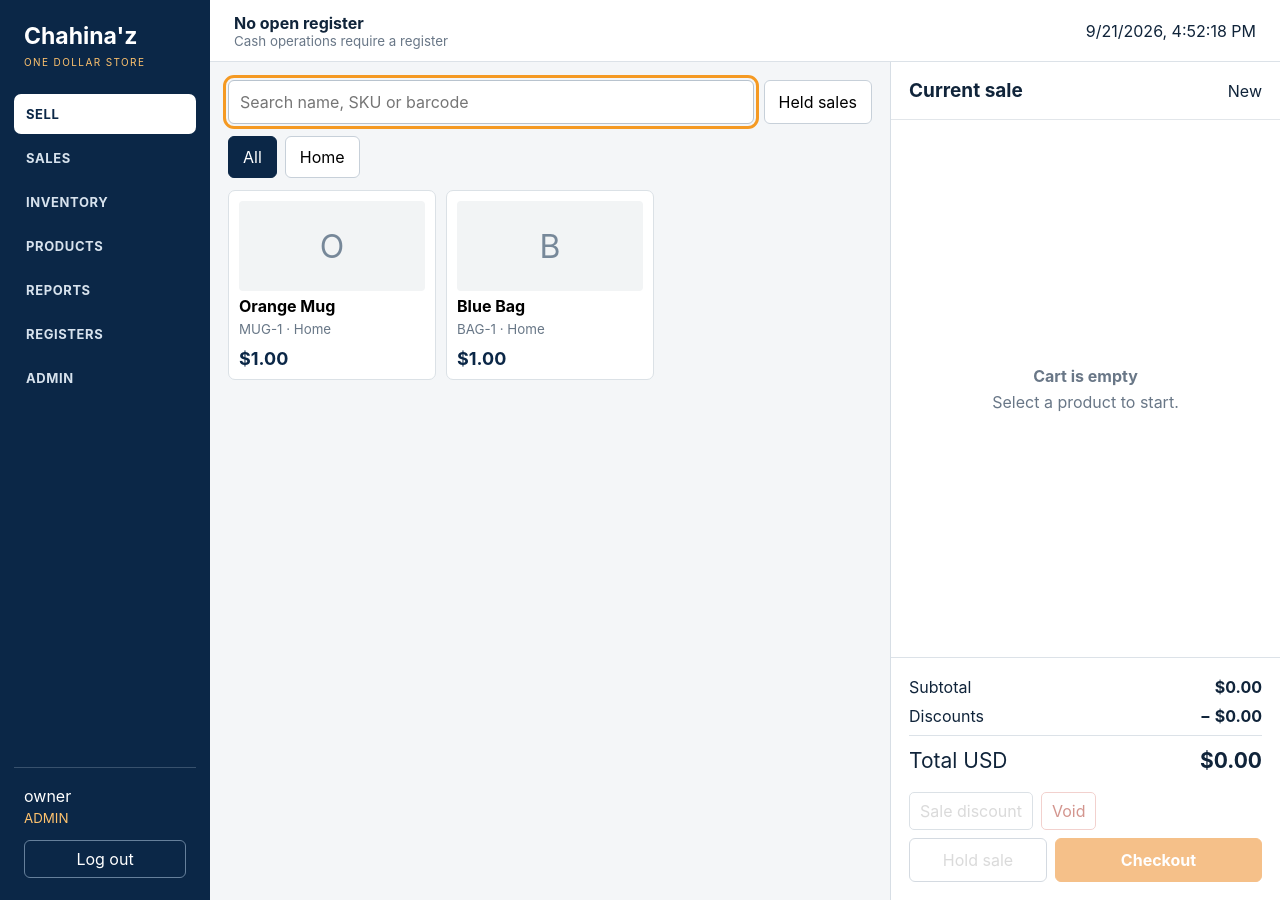
POS shell › filters products from cashier search
Type "mug" into the field named "Search products" at (491, 102), box [228,80,754,124]
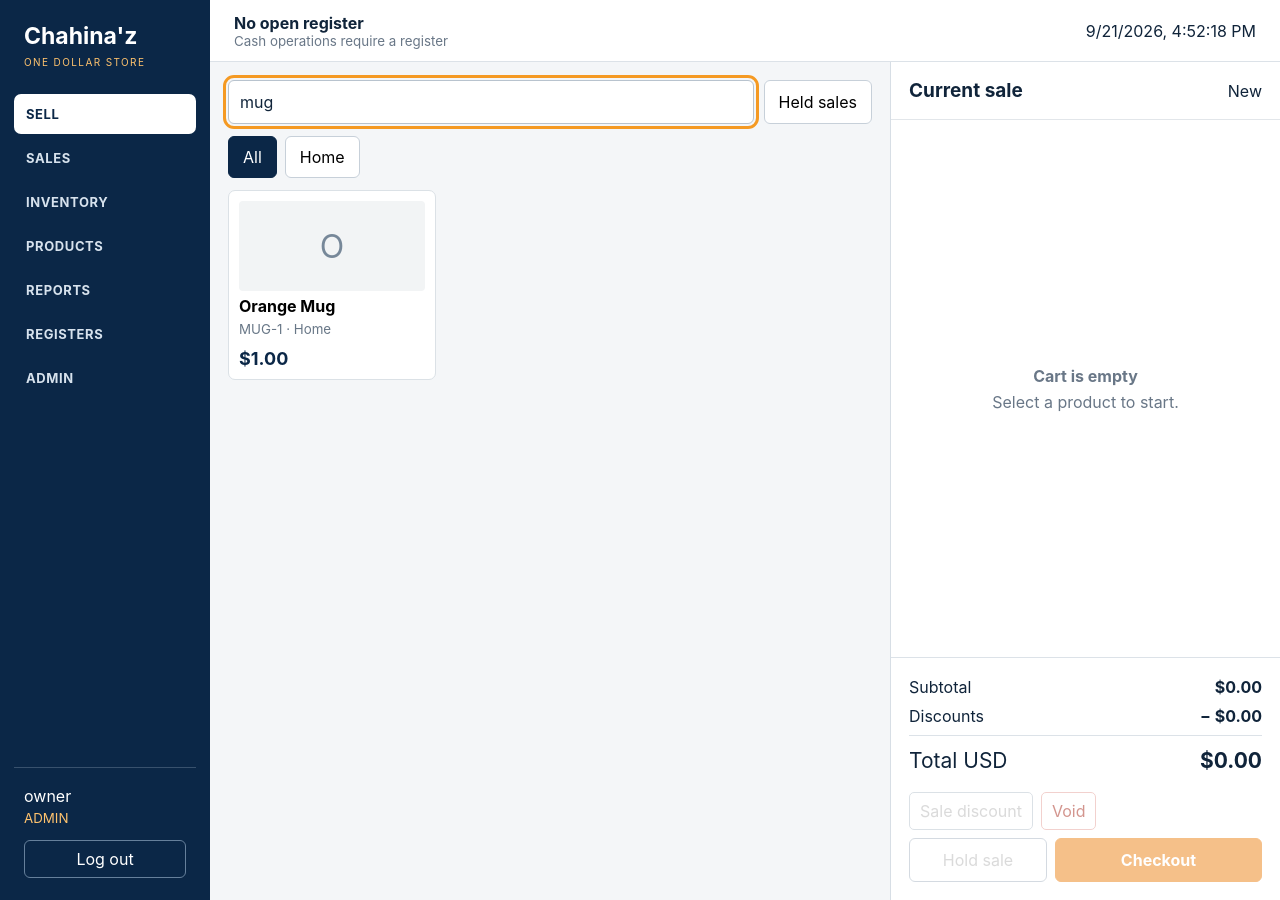
Expected: the text "Orange Mug" is shown, [239,296,335,316]
Expected: the button "Blue Bag" is gone
